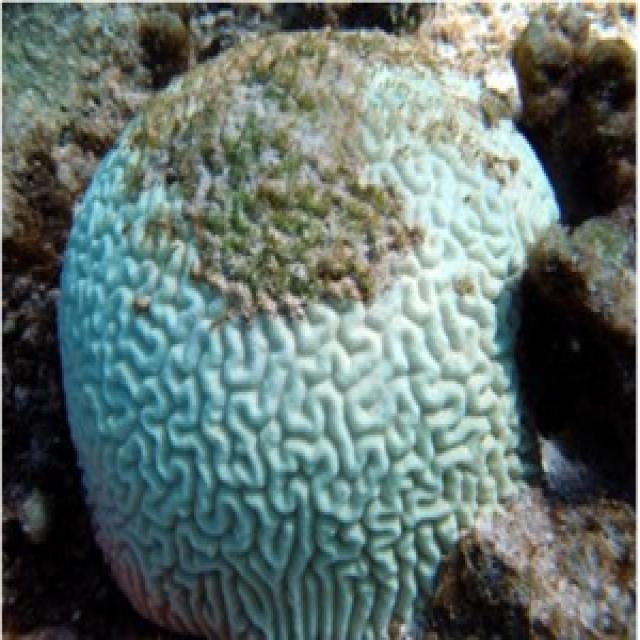Bleached: (71, 81, 511, 640), (419, 4, 527, 88)
Healthy: (535, 240, 640, 448), (438, 531, 638, 640), (534, 28, 640, 164)
